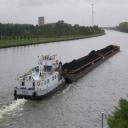tugboat: (14, 53, 69, 103)
